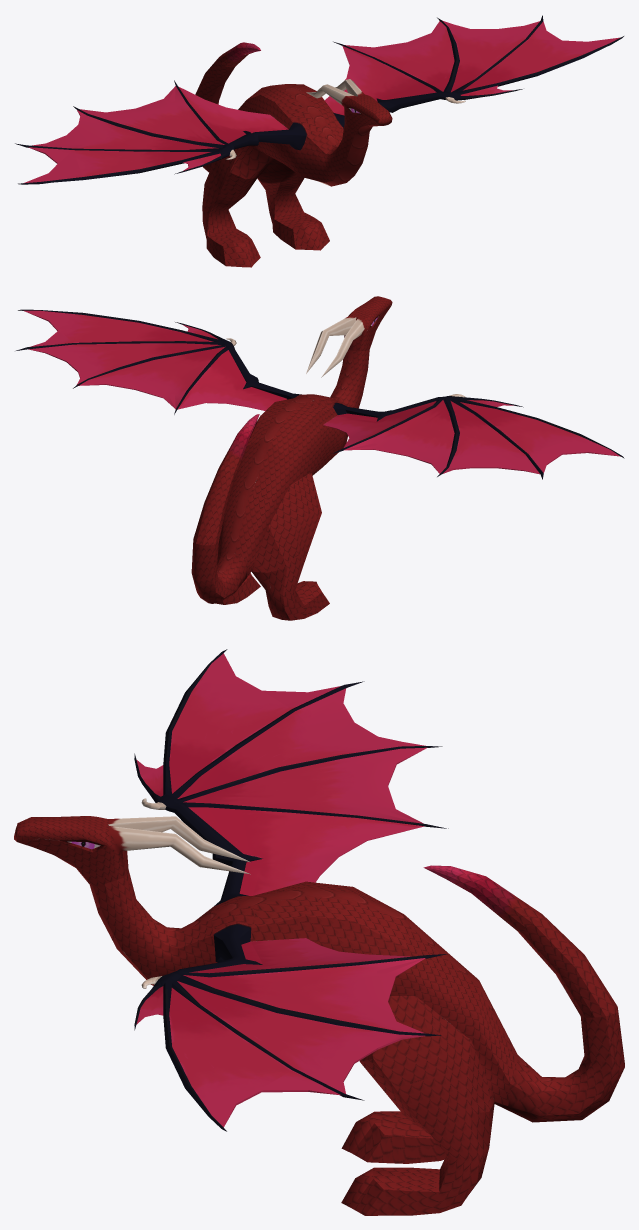
Rendered from wyvern.fbx.
3 renders of one model, top to bottom at view 1: azimuth 30°, elevation 25°; view 2: azimuth 150°, elevation 25°; view 3: azimuth 270°, elevation 25°, orthographic. The views are drawn at different scales.
Visible parts, largest first — view 1: pCube3; view 2: pCube3; view 3: pCube3.
Boxes of the visible parts, <box> form: pCube3: <box>15,15,623,267</box>; pCube3: <box>16,296,624,620</box>; pCube3: <box>14,649,624,1215</box>.
Bounding box in the file's own units: 0.363 × 0.125 × 0.1941.
